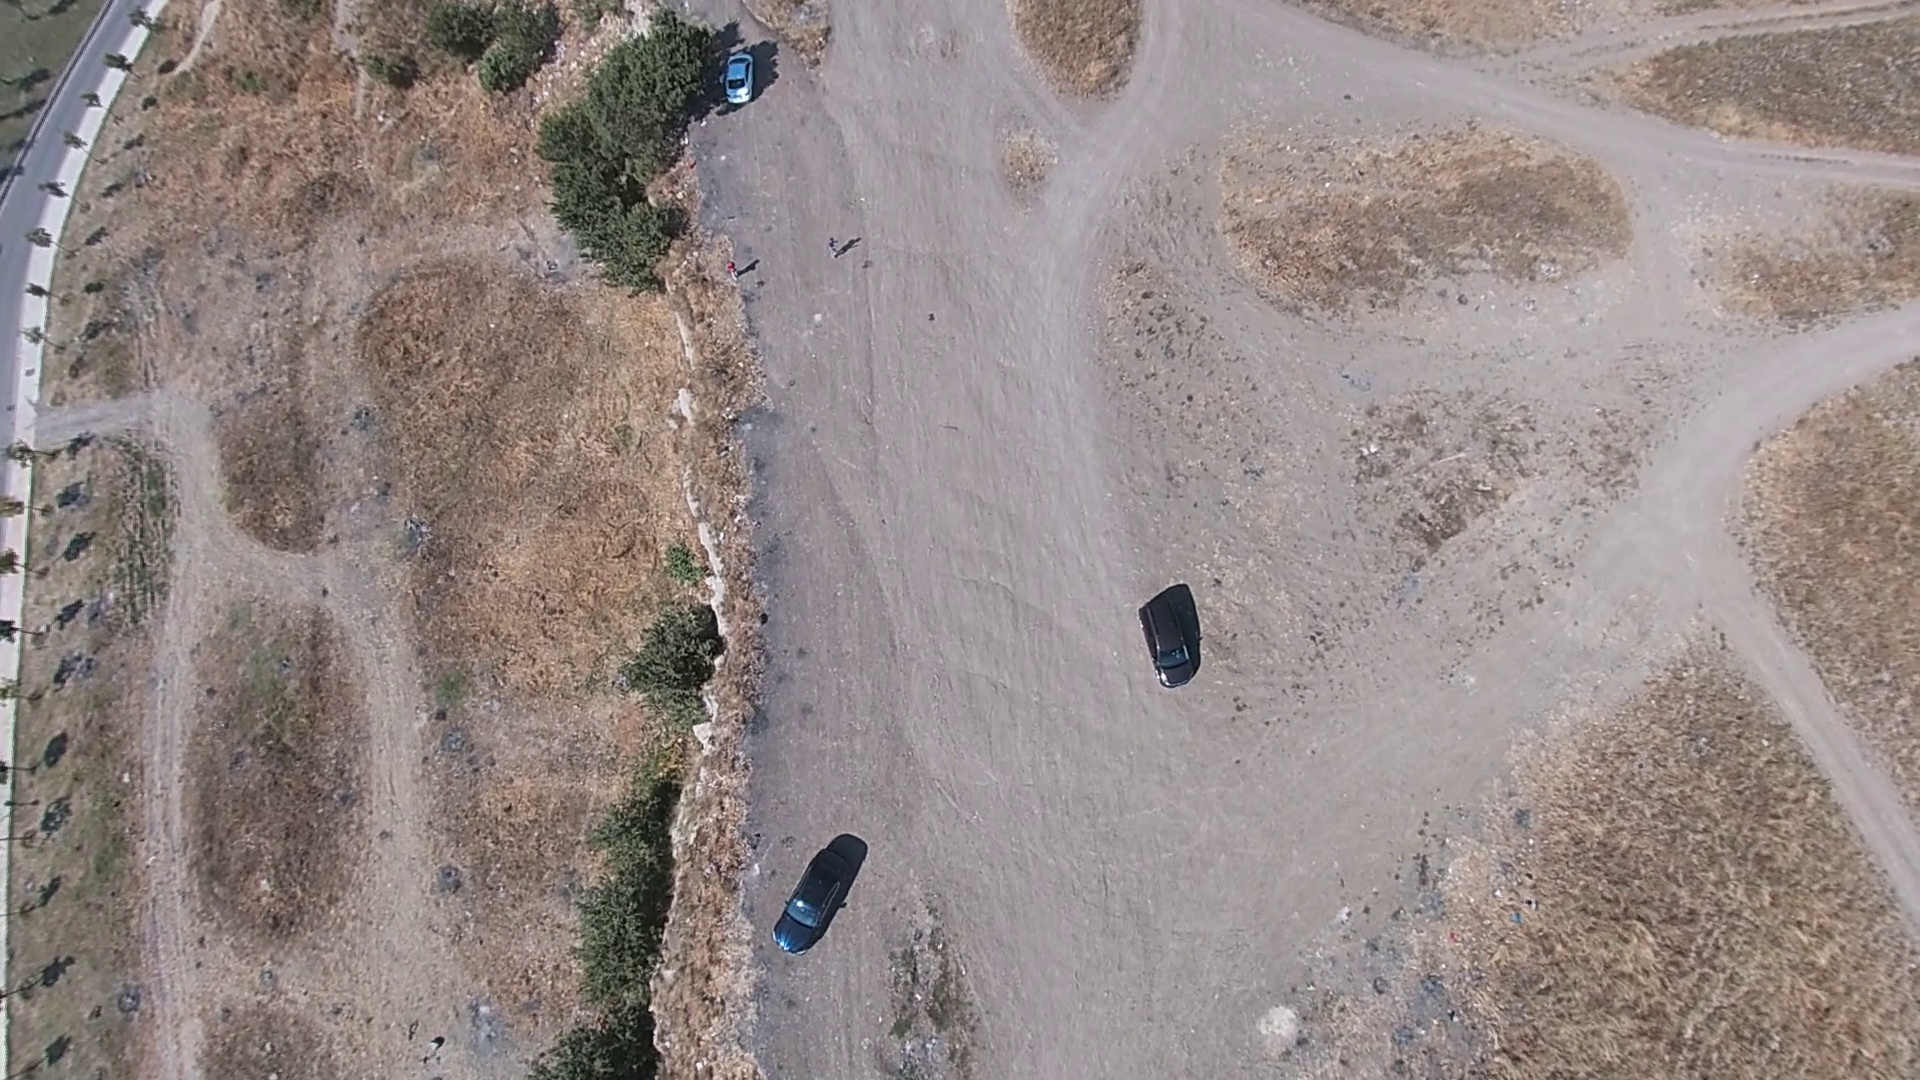arac: (767, 835, 866, 953), (1136, 589, 1200, 685), (720, 47, 755, 106)
insan: (732, 257, 753, 281), (821, 227, 838, 250)
